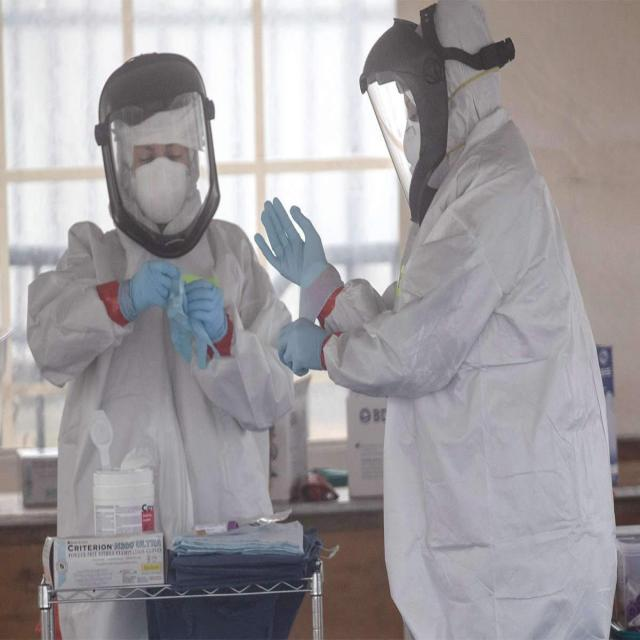Coverall: (314, 4, 621, 635), (38, 46, 304, 622)
Gloves: (234, 190, 339, 302), (104, 243, 186, 330), (254, 299, 335, 381), (168, 247, 235, 340)
Mask: (124, 159, 197, 223), (398, 117, 428, 179)
